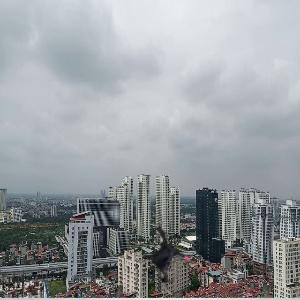drone: (130, 222, 205, 297)
